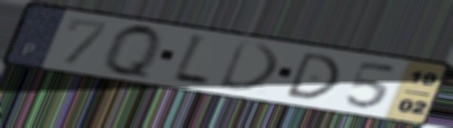5: (343, 59, 402, 110)
7: (63, 15, 111, 67)
D: (215, 38, 283, 93), (282, 50, 342, 101)
L: (168, 31, 213, 89)
Q: (101, 22, 164, 84)
